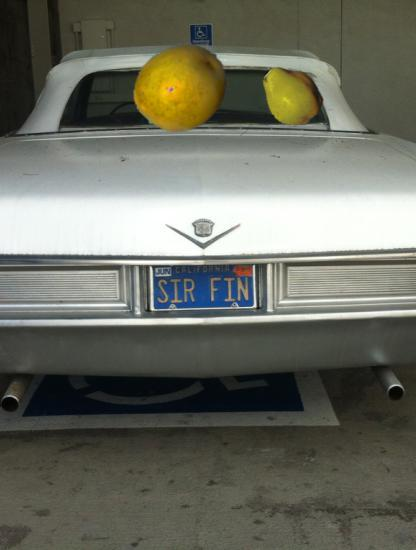Maracuja: (133, 39, 230, 136)
Quince: (258, 63, 326, 131)
